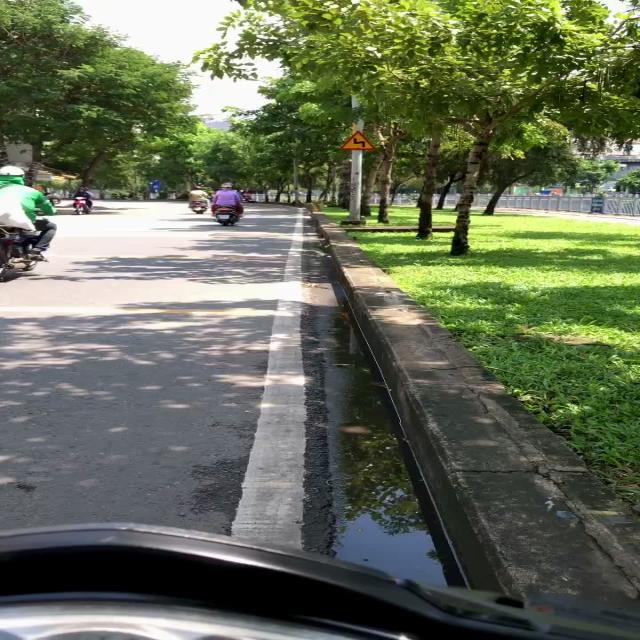Bien bao nhieu cho ngoat nguy hiem lien tiep: (333, 127, 379, 152)
